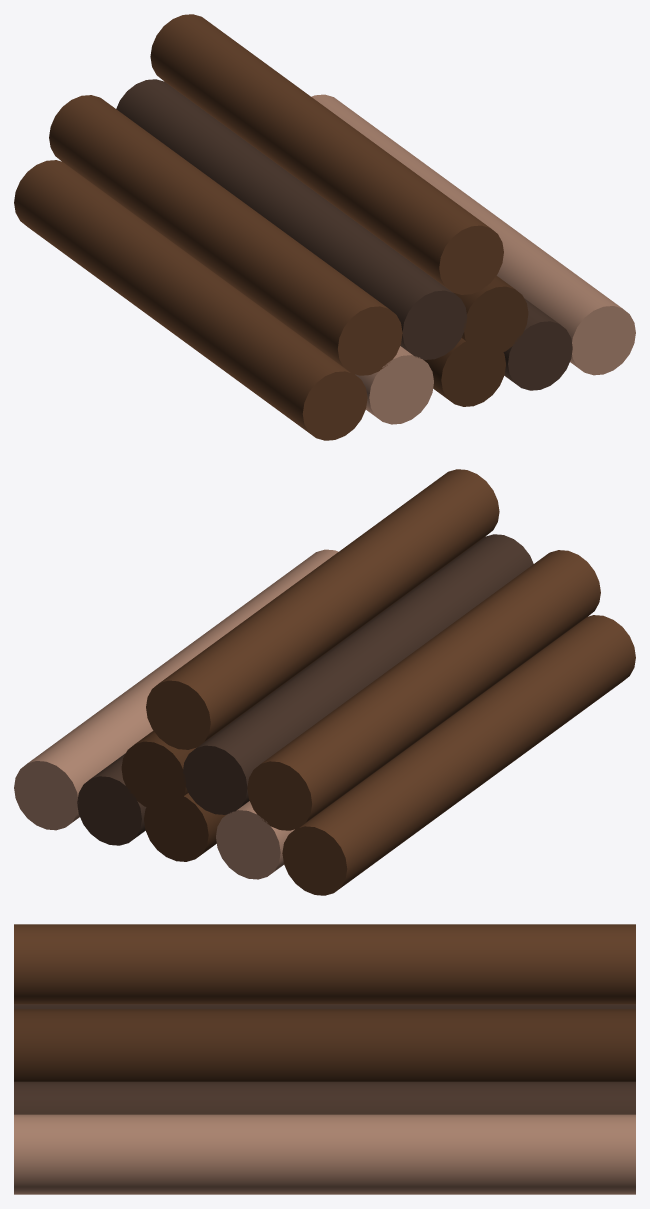
File: maruta_multi.fbx
The picture shows the model from 3 angles, top to bottom: view 1: azimuth 30°, elevation 25°; view 2: azimuth 150°, elevation 25°; view 3: azimuth 270°, elevation 25°; orthographic projection. The views are drawn at different scales.
Parts seen in each view (by area): view 1: pCylinder9, pCylinder6, pCylinder5, pCylinder7, pCylinder3, pCylinder2, pCylinder1, pCylinder4, pCylinder8; view 2: pCylinder9, pCylinder6, pCylinder5, pCylinder7, pCylinder3, pCylinder2, pCylinder1, pCylinder4, pCylinder8; view 3: pCylinder3, pCylinder9, pCylinder8, pCylinder2, pCylinder7.
Part boxes in pixels (<box>): pCylinder9: <box>150,14,503,294</box>; pCylinder6: <box>49,95,402,375</box>; pCylinder5: <box>14,160,367,440</box>; pCylinder7: <box>116,79,467,359</box>; pCylinder3: <box>311,94,635,375</box>; pCylinder2: <box>503,298,572,390</box>; pCylinder1: <box>423,338,505,406</box>; pCylinder4: <box>355,346,433,424</box>; pCylinder8: <box>453,275,528,355</box>; pCylinder9: <box>146,469,499,749</box>; pCylinder6: <box>247,550,600,830</box>; pCylinder5: <box>282,615,635,895</box>; pCylinder7: <box>182,534,533,814</box>; pCylinder3: <box>14,549,338,830</box>; pCylinder2: <box>77,753,146,845</box>; pCylinder1: <box>144,792,226,861</box>; pCylinder4: <box>216,801,294,879</box>; pCylinder8: <box>121,730,196,810</box>; pCylinder3: <box>14,1114,635,1194</box>; pCylinder9: <box>14,924,635,1004</box>; pCylinder8: <box>14,1009,635,1081</box>; pCylinder2: <box>14,1081,635,1114</box>; pCylinder7: <box>14,1004,635,1009</box>.
Size of the model in its own units: 3.32 by 1.72 by 4.99.
